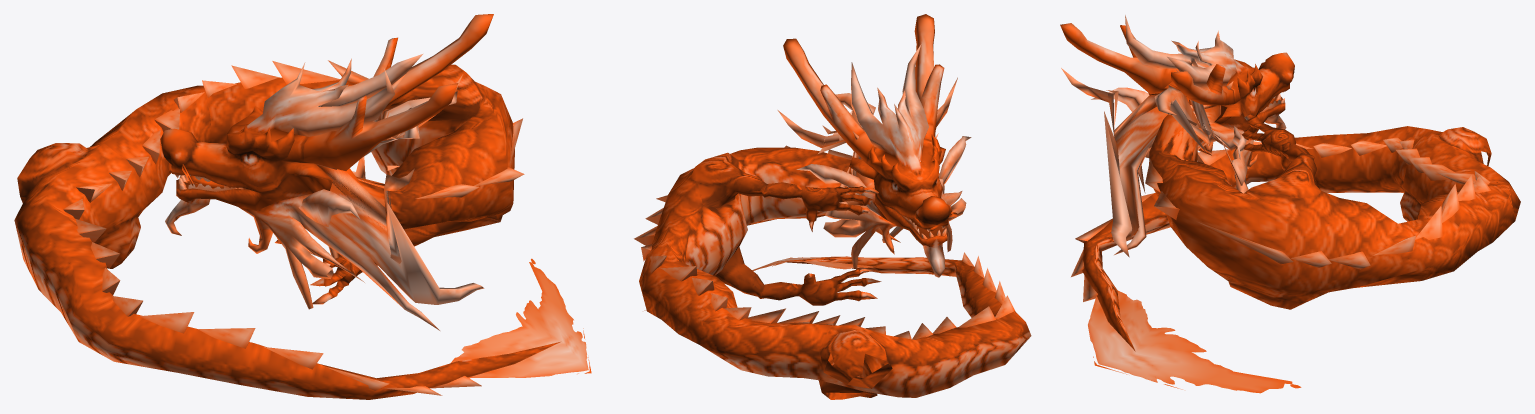
File: buff_eff_10008_foot.FBX
The picture shows the model from 3 angles, left to right: view 1: azimuth 30°, elevation 25°; view 2: azimuth 150°, elevation 25°; view 3: azimuth 270°, elevation 25°; orthographic projection. The views are drawn at different scales.
Visible parts, largest first — view 1: buff_eff_10008_foot; view 2: buff_eff_10008_foot; view 3: buff_eff_10008_foot.
Part boxes in pixels (<box>): buff_eff_10008_foot: <box>14,14,591,399</box>; buff_eff_10008_foot: <box>634,14,1031,399</box>; buff_eff_10008_foot: <box>1060,15,1520,393</box>.
Bounding box in the file's own units: 153 × 103 × 152.
